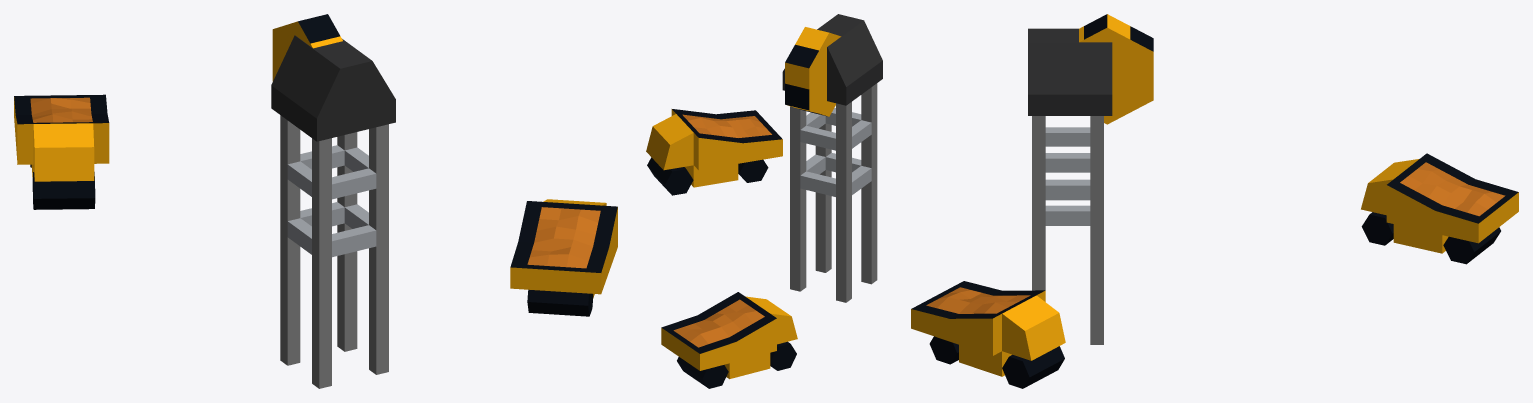
Rendered from Border_16_exploring.fbx.
3 views of the same model, side by side, from view 1: azimuth 30°, elevation 25°; view 2: azimuth 150°, elevation 25°; view 3: azimuth 270°, elevation 25° (orthographic). The views are drawn at different scales.
Visible parts, largest first — view 1: Cube.002, Cylinder; view 2: Cube.002, Cylinder; view 3: Cube.002, Cylinder.
Part boxes in pixels (left/top/right/bottom): Cube.002: left=14, top=35, right=617, bottom=388; Cylinder: left=272, top=14, right=342, bottom=81; Cube.002: left=646, top=14, right=882, bottom=388; Cylinder: left=785, top=27, right=841, bottom=116; Cube.002: left=911, top=28, right=1518, bottom=388; Cylinder: left=1079, top=14, right=1153, bottom=124.
Size of the model in its own units: 189 by 158 by 282.
